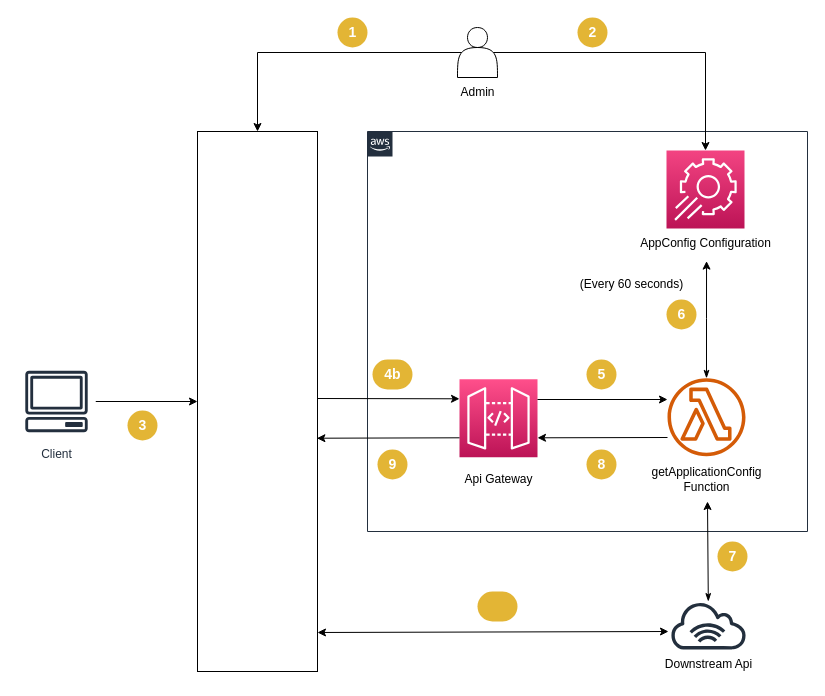
Image size: 825x696. Some labels were removed from this diagram. Each missing label, with the box of its shape:
4a: (477, 591, 517, 621)
Application Router: (196, 130, 318, 672)
AWS Cloud: (366, 130, 808, 532)
